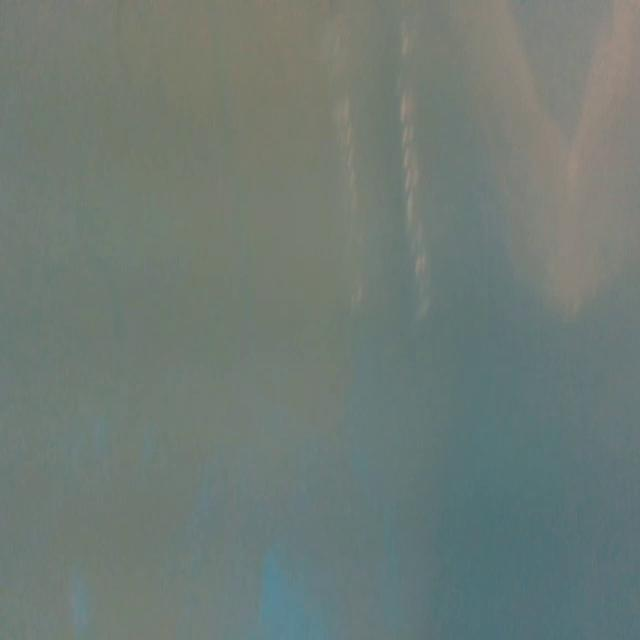plastic bottle: (324, 10, 434, 330)
